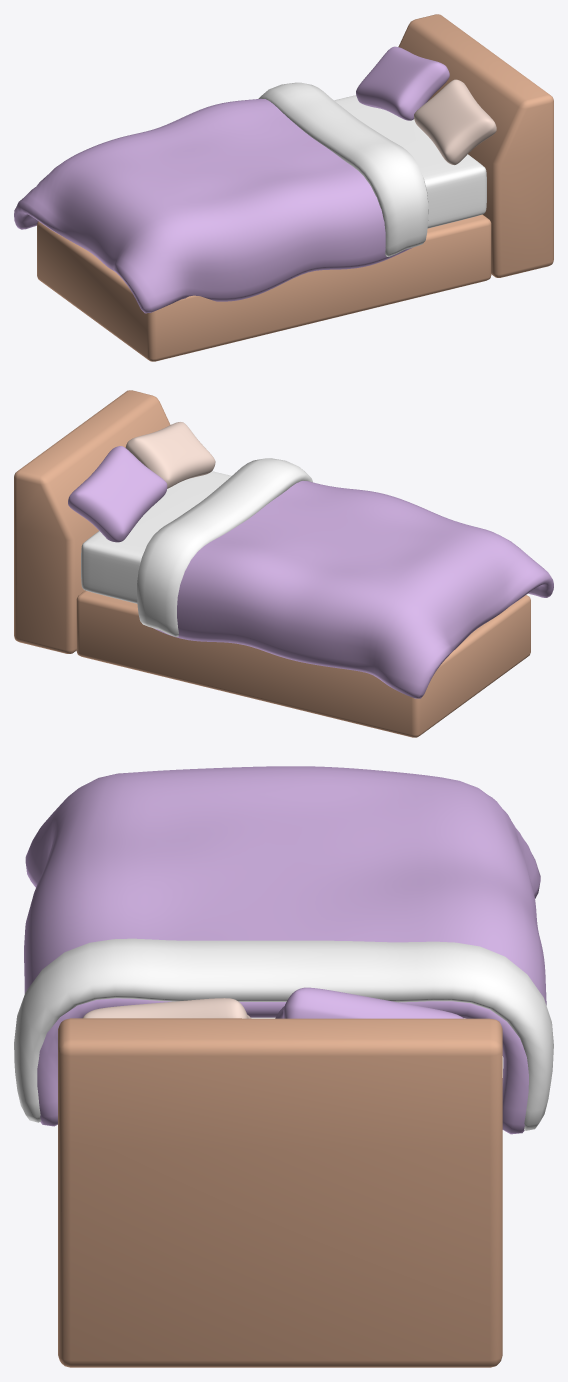
Rendered from bed.fbx.
3 views of the same model, one above another, from view 1: azimuth 30°, elevation 25°; view 2: azimuth 150°, elevation 25°; view 3: azimuth 270°, elevation 25° (orthographic). The views are drawn at different scales.
Visible parts, largest first — view 1: bed_futon, bed_base, bed_futonobi, bed_mat, bed_pillow1, bed_pillow2; view 2: bed_futon, bed_base, bed_futonobi, bed_mat, bed_pillow1, bed_pillow2; view 3: bed_base, bed_futon, bed_futonobi, bed_pillow1, bed_pillow2.
Boxes of the visible parts, bbox=[...] form: bed_futon: bbox=[14, 98, 412, 313]; bed_base: bbox=[37, 14, 553, 361]; bed_futonobi: bbox=[258, 82, 428, 256]; bed_mat: bbox=[334, 95, 486, 228]; bed_pillow1: bbox=[356, 46, 449, 120]; bed_pillow2: bbox=[414, 79, 496, 165]; bed_futon: bbox=[154, 481, 553, 698]; bed_base: bbox=[14, 390, 530, 737]; bed_futonobi: bbox=[137, 458, 312, 636]; bed_mat: bbox=[81, 471, 231, 603]; bed_pillow1: bbox=[68, 446, 167, 542]; bed_pillow2: bbox=[125, 422, 215, 488]; bed_base: bbox=[58, 1018, 502, 1367]; bed_futon: bbox=[24, 766, 546, 1134]; bed_futonobi: bbox=[14, 938, 553, 1130]; bed_pillow1: bbox=[275, 987, 463, 1018]; bed_pillow2: bbox=[83, 998, 251, 1018].
Bounding box in the file's own units: 1142 × 1990 × 766.
